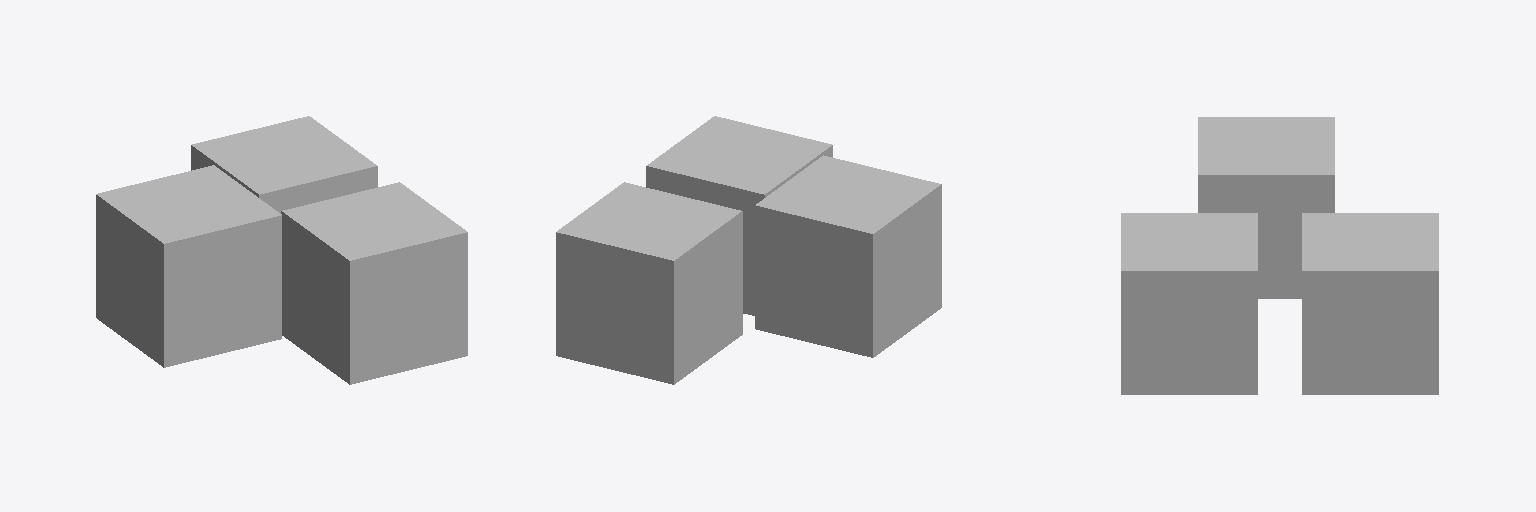
Rendered from cubes.obj.
The picture shows the model from 3 angles: view 1: azimuth 30°, elevation 25°; view 2: azimuth 150°, elevation 25°; view 3: azimuth 270°, elevation 25°; orthographic projection.
Parts seen in each view (by area): view 1: Cube, Cube.002, Cube.001; view 2: Cube.002, Cube.001, Cube; view 3: Cube.001, Cube, Cube.002.
Boxes of the visible parts, <box> form: Cube: <box>281,182,467,384</box>; Cube.002: <box>96,165,281,367</box>; Cube.001: <box>191,116,377,213</box>; Cube.002: <box>755,155,941,357</box>; Cube.001: <box>556,182,742,384</box>; Cube: <box>646,116,832,315</box>; Cube.001: <box>1302,213,1438,394</box>; Cube: <box>1121,213,1257,394</box>; Cube.002: <box>1198,117,1334,298</box>.
Bounding box in the file's own units: 4.49 × 2.4 × 4.65.